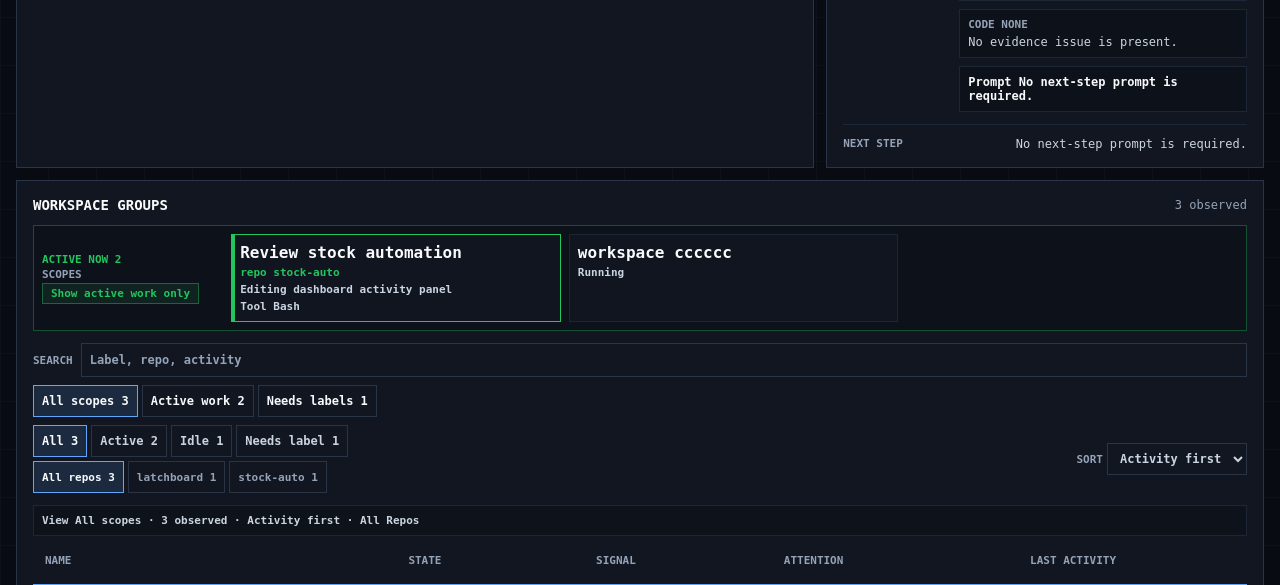
Test: AppView › searches workspace groups by safe repo and activity text
(page scrolled)
Type "idle scope" into the search field named "Search workspace groups" at {"x": 664, "y": 360}, box x1=81 y1=343 x2=1247 y2=377
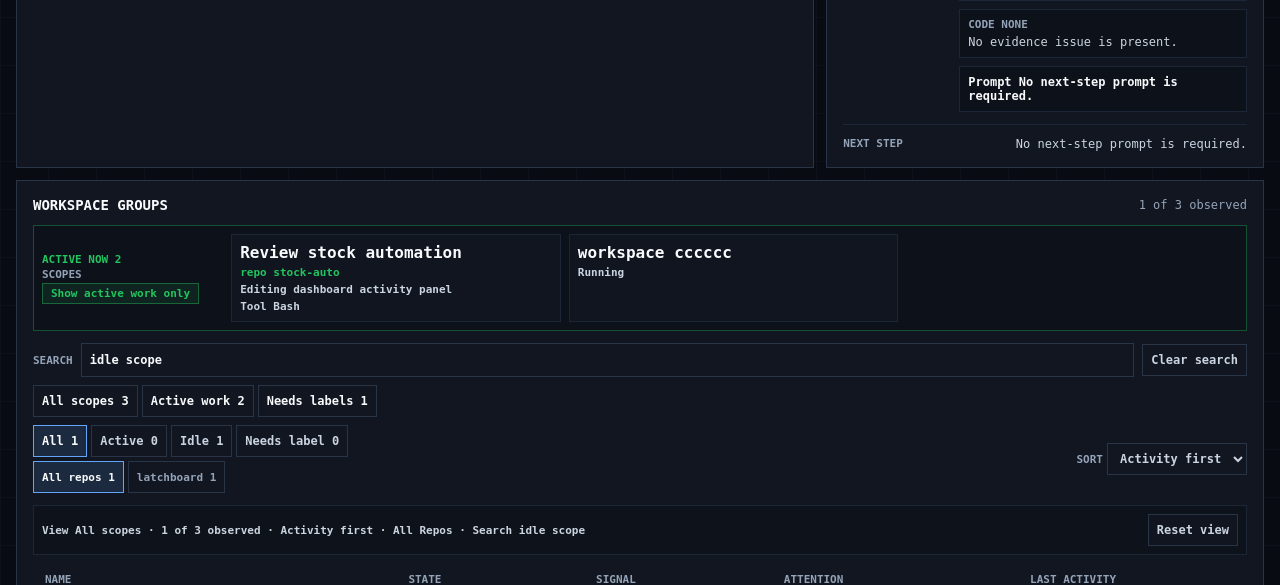
expect the list "Workspace groups" does not show "Review stock automation": met
expect the text "1 of 3 observed" is shown: met, box x1=1139 y1=198 x2=1247 y2=212
Replace the text in the search field named "Search workspace groups" with "stock-auto" at {"x": 608, "y": 360}, box x1=81 y1=343 x2=1134 y2=377
(page scrolled)
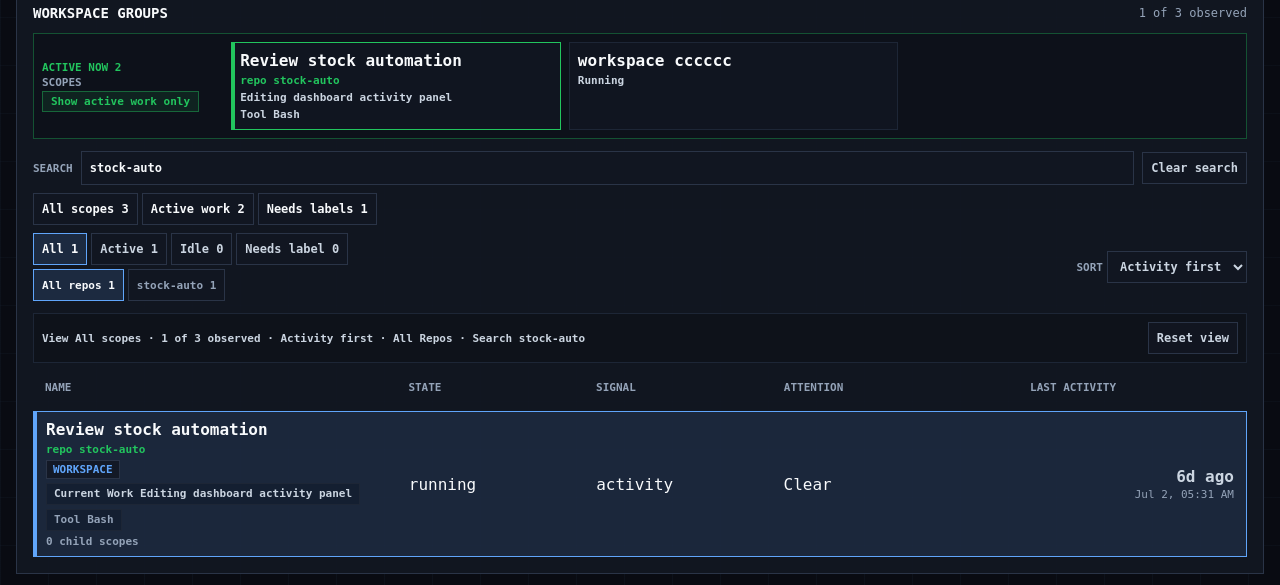
expect the list "Workspace groups" does not show "workspace cccccc": met
expect the text "1 of 3 observed" is shown: met, box x1=1139 y1=6 x2=1247 y2=20
expect the list named "Workspace groups" shows "Review stock automation": met, box x1=33 y1=411 x2=1247 y2=557
